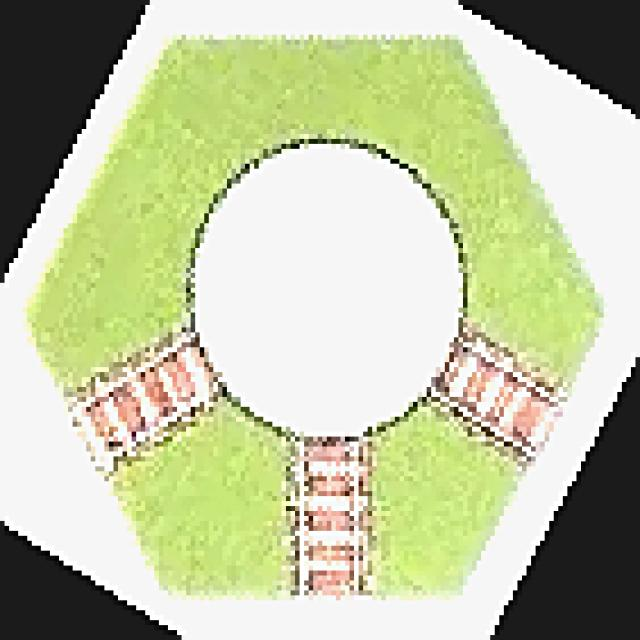12_1: (34, 35, 604, 602)
